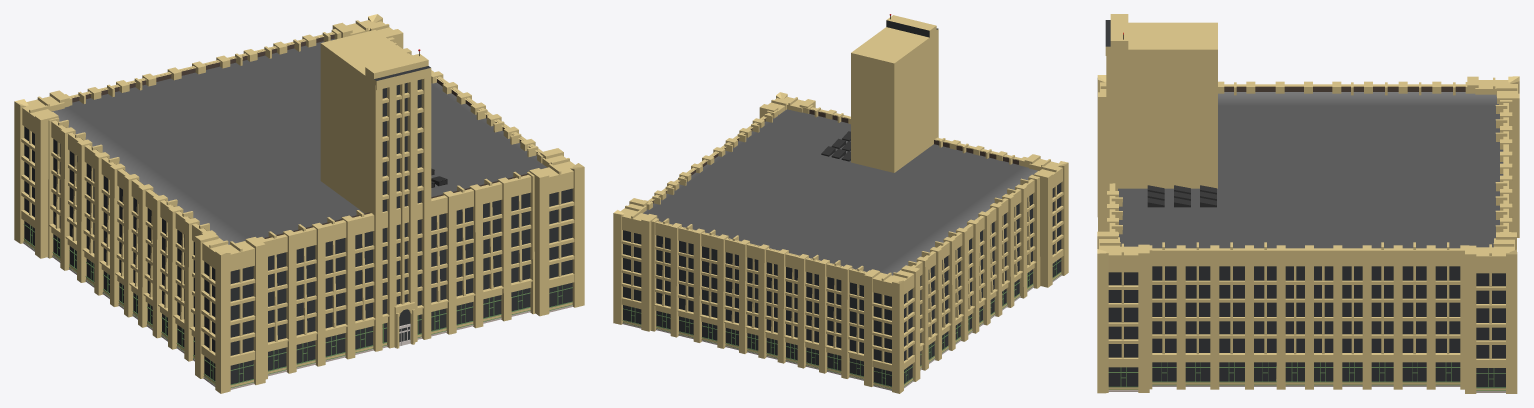
The model's file is mHouse2.fbx.
3 renders of one model, left to right at view 1: azimuth 30°, elevation 25°; view 2: azimuth 150°, elevation 25°; view 3: azimuth 270°, elevation 25°, orthographic. The views are drawn at different scales.
Parts seen in each view (by area): view 1: pCube100; view 2: pCube100; view 3: pCube100.
Boxes of the visible parts, left/top/right/bottom form: pCube100: left=14, top=14, right=584, bottom=393; pCube100: left=613, top=14, right=1068, bottom=393; pCube100: left=1097, top=14, right=1519, bottom=393.
Size of the model in its own units: 74.89 by 55.74 by 74.54.
2 materials, 1 textured.
